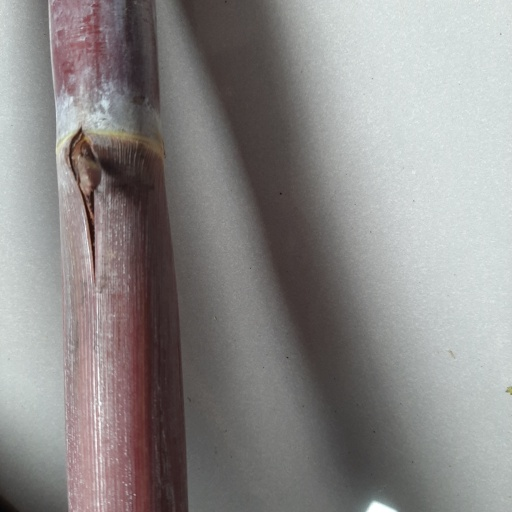Damage_Bud: (69, 128, 101, 231)
